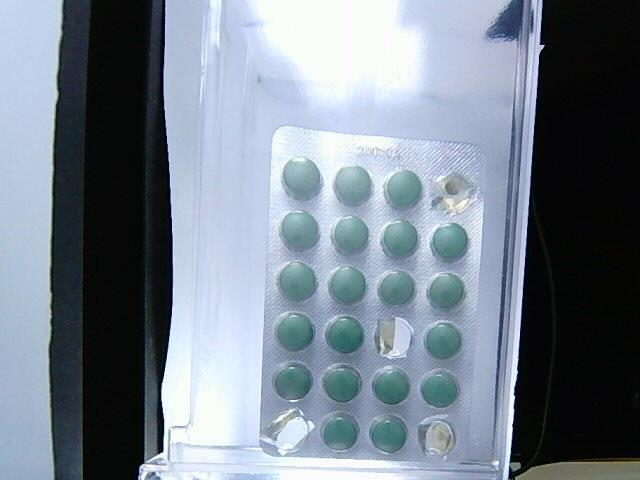Light Front: (258, 126, 485, 465)
No Pill Front: (266, 408, 314, 454), (433, 173, 478, 213), (375, 318, 413, 359), (418, 415, 455, 456)
Pill Front: (283, 158, 323, 199), (278, 261, 318, 300), (275, 311, 315, 350), (280, 211, 320, 249), (430, 223, 468, 262), (335, 165, 372, 205), (329, 266, 367, 304), (325, 315, 363, 353), (331, 215, 368, 254), (380, 220, 418, 257), (373, 366, 410, 404), (385, 170, 421, 208), (323, 365, 361, 401), (370, 416, 407, 452), (274, 364, 312, 399), (421, 371, 457, 406), (425, 323, 461, 358), (323, 414, 359, 449), (379, 271, 416, 305), (428, 274, 464, 308)
